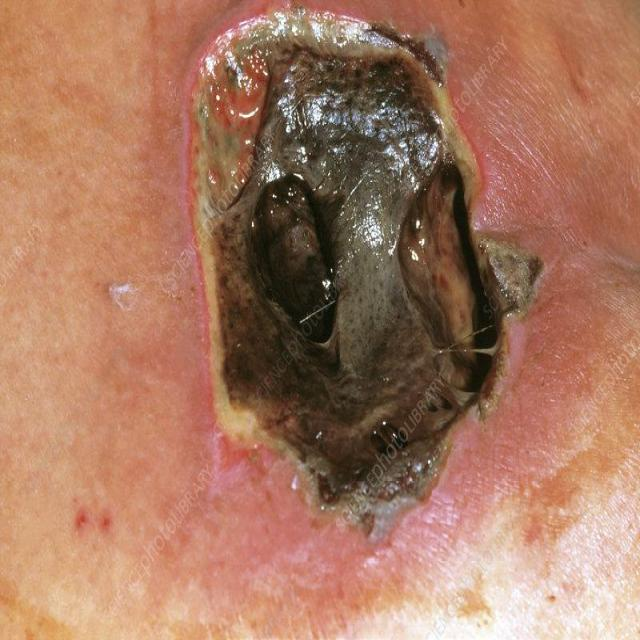Unstageable: (192, 11, 540, 526)
